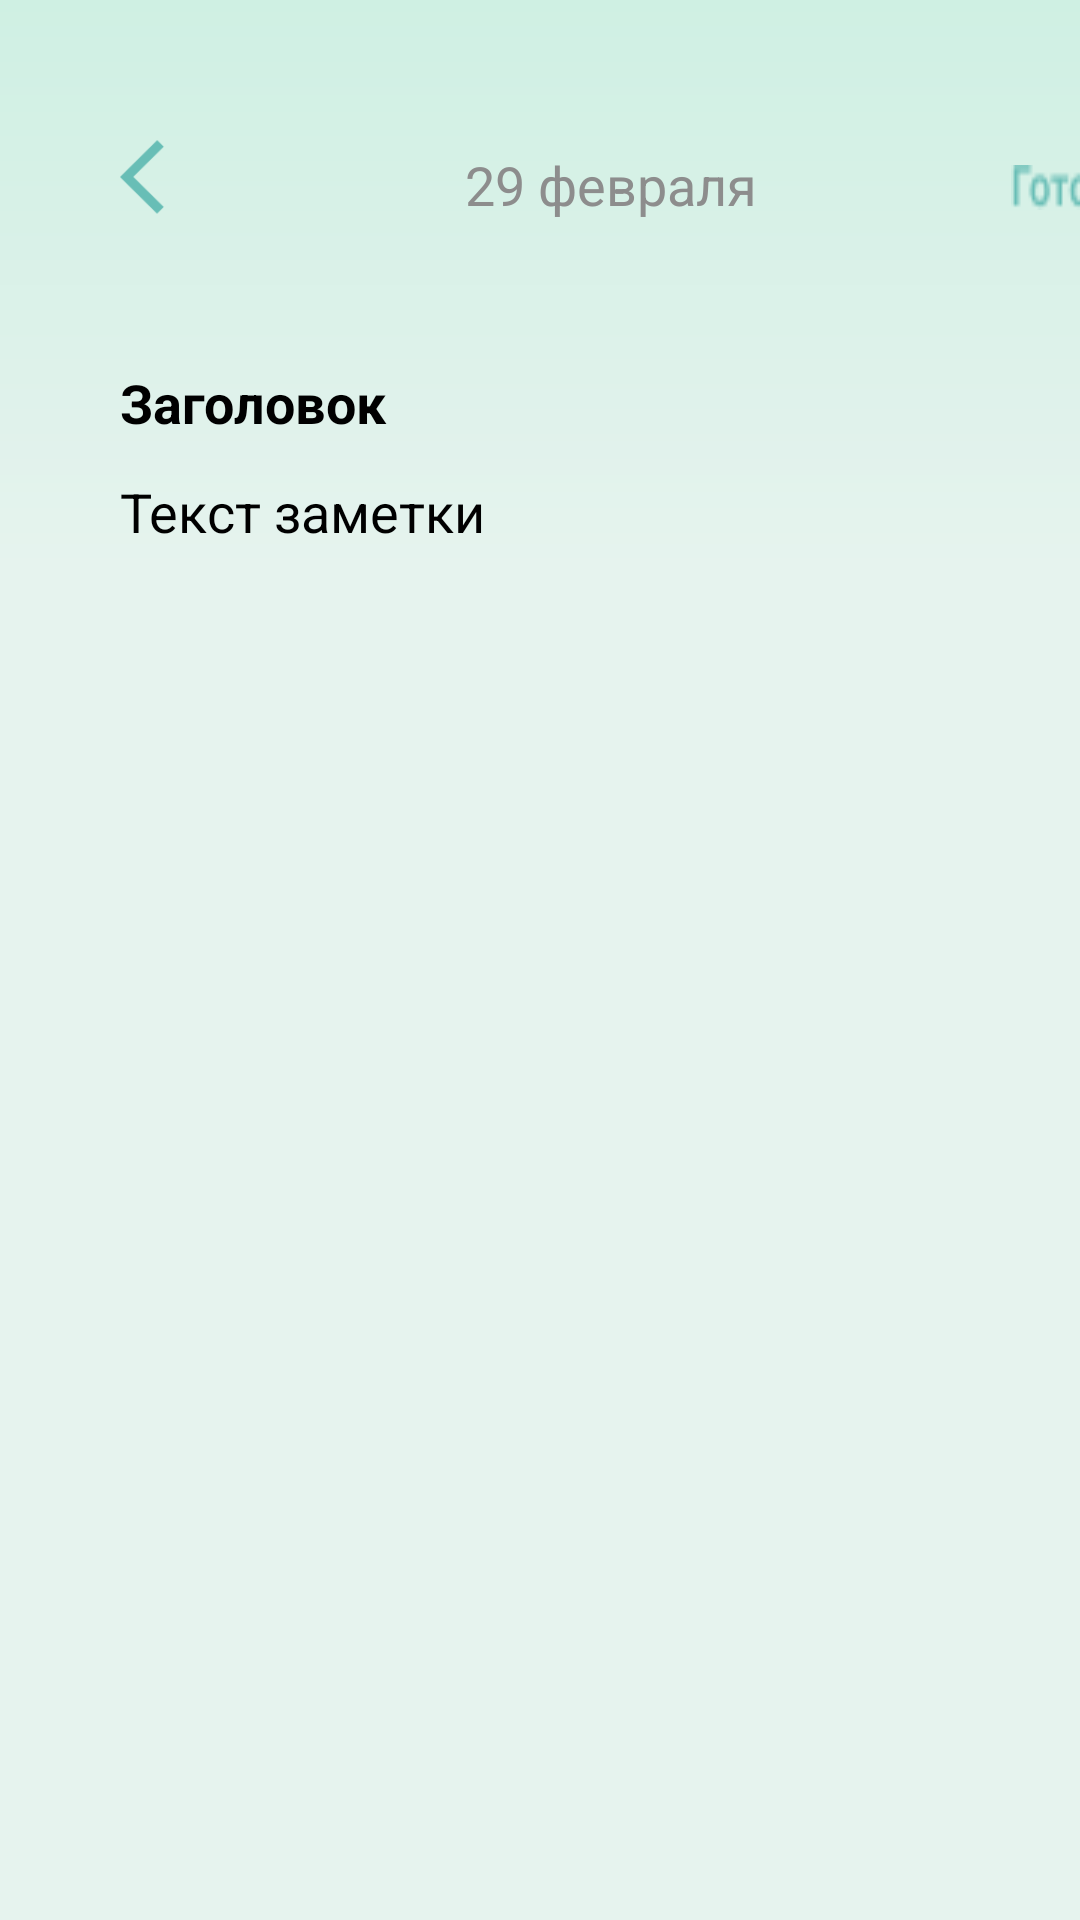

Where icons sit on this 1080×1920 app screen, as (x1, y1, x2, y2):
back arrow: (120, 140, 164, 214)
